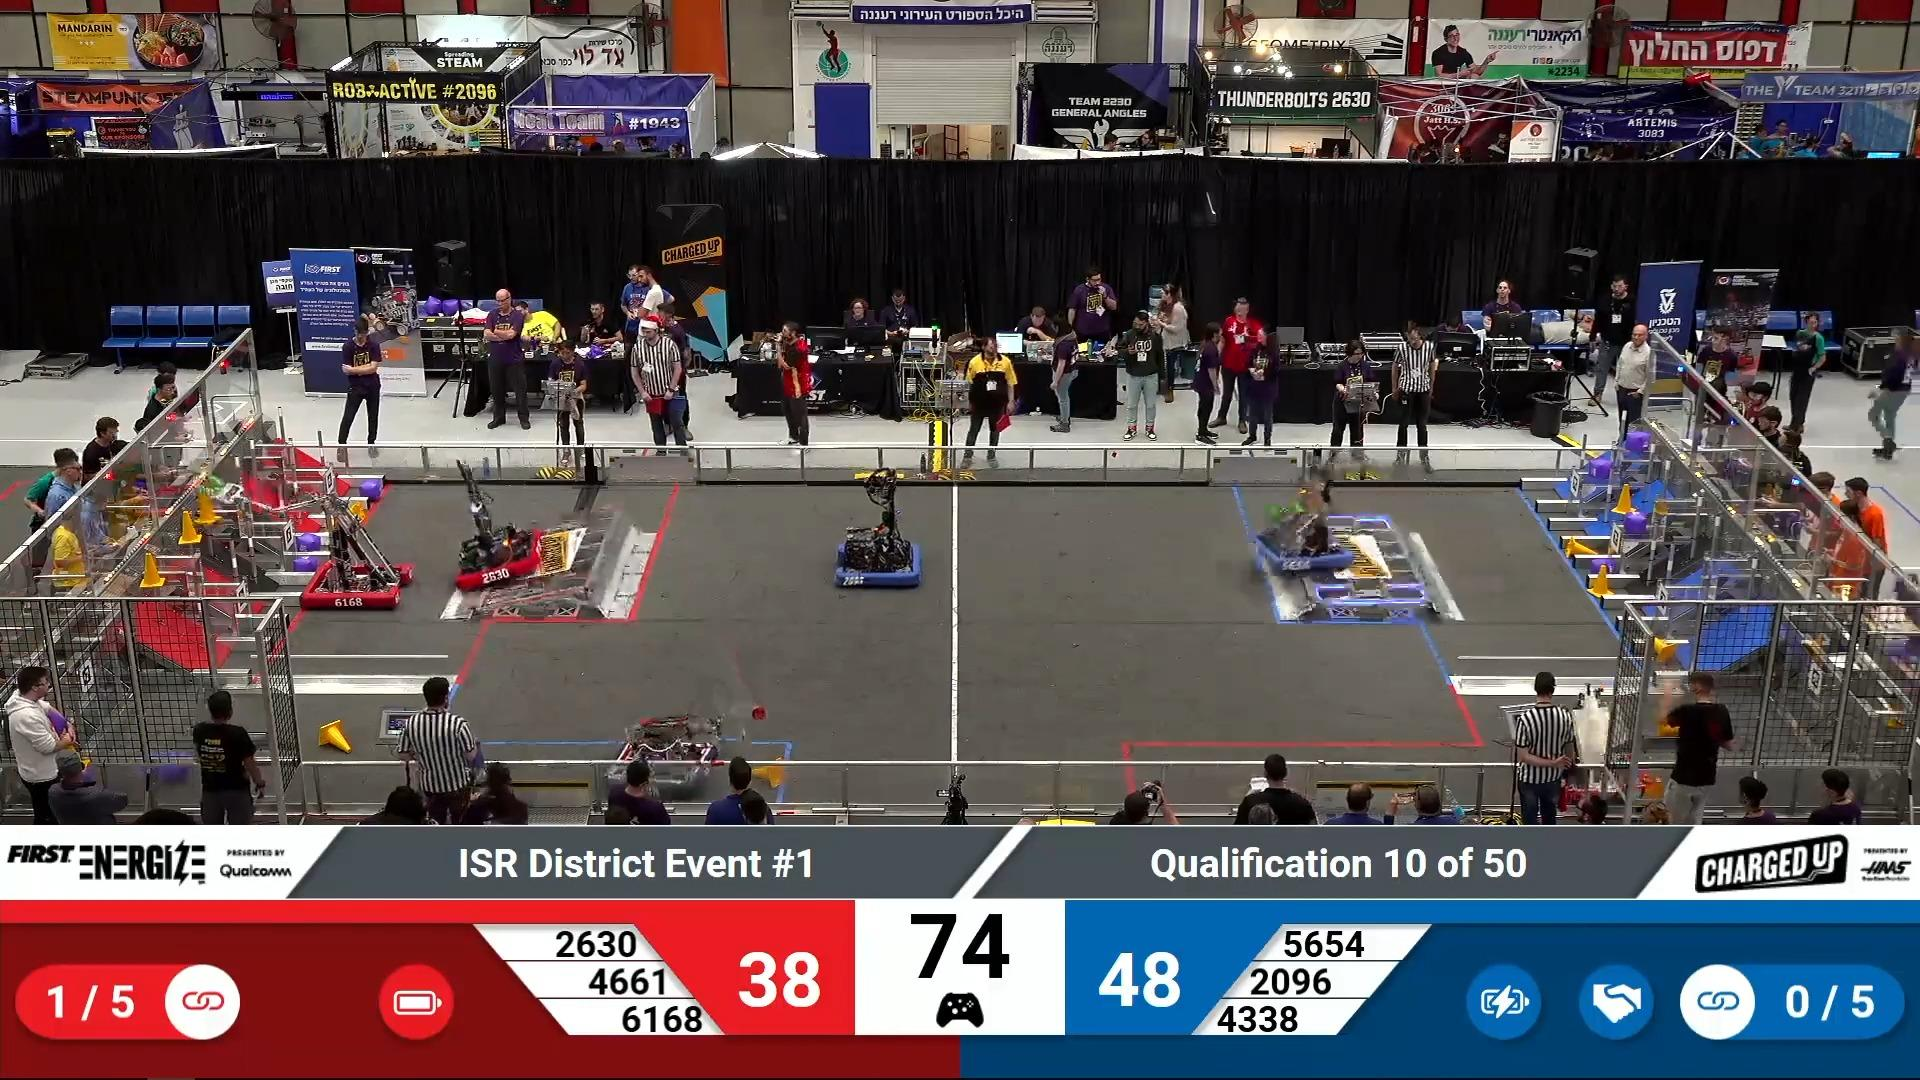robot: (607, 707, 712, 800), (305, 542, 415, 613), (825, 527, 939, 595), (451, 512, 542, 593), (1251, 502, 1350, 578)
